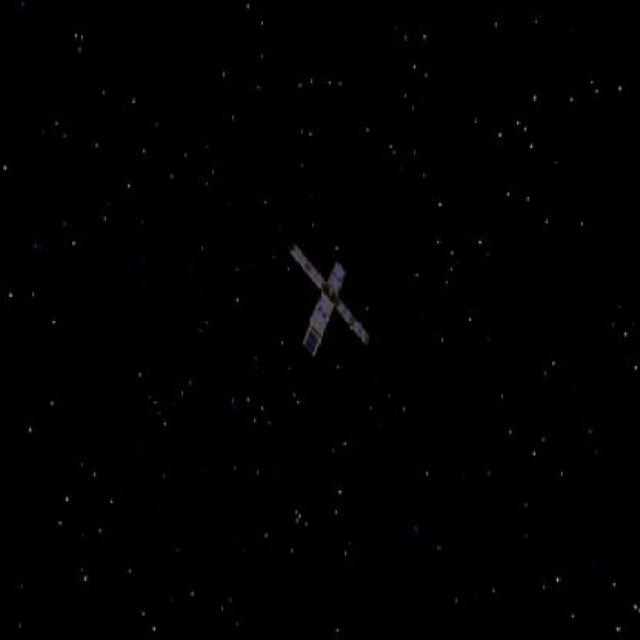satellite: (290, 234, 377, 366)
